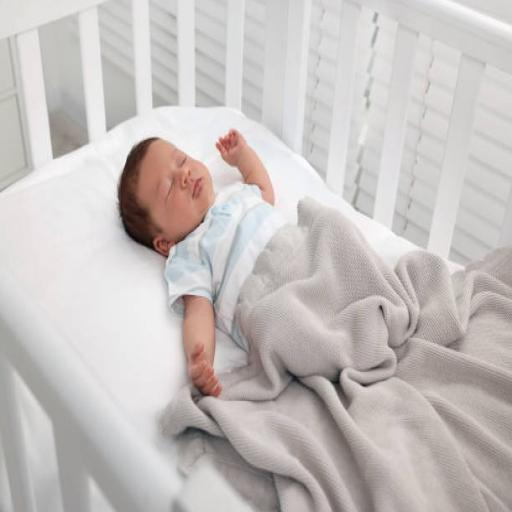baby: (118, 129, 284, 395)
crib: (326, 0, 511, 257)
